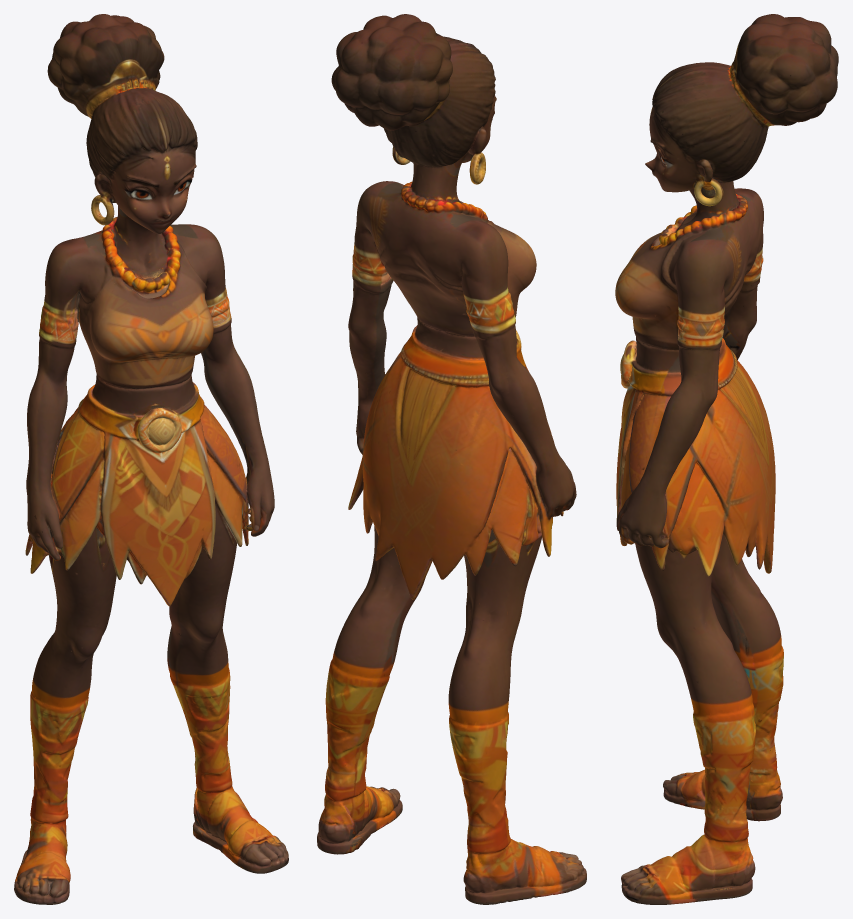
The model's file is Warrior_Spirit_1010112652_texture.glb.
3 views of the same model, side by side, from view 1: azimuth 30°, elevation 25°; view 2: azimuth 150°, elevation 25°; view 3: azimuth 270°, elevation 25° (orthographic). The views are drawn at different scales.
Size of the model in its own units: 0.5998 by 1.9 by 0.4664.
1 material, 1 textured.
